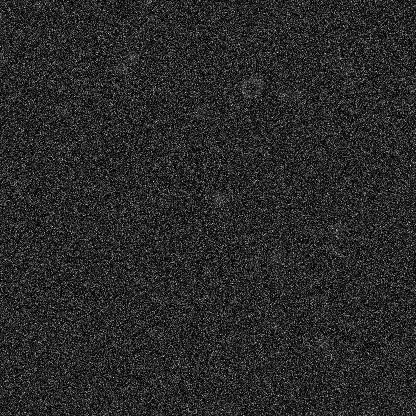Ring: (239, 75, 263, 99)
Spot: (338, 62, 354, 78), (276, 85, 292, 101), (209, 191, 225, 207), (266, 248, 282, 264), (112, 61, 128, 77), (371, 94, 387, 110), (288, 87, 304, 103), (56, 101, 72, 117), (124, 48, 140, 64), (191, 103, 207, 119), (314, 333, 330, 349), (52, 139, 68, 155), (330, 222, 346, 238)
